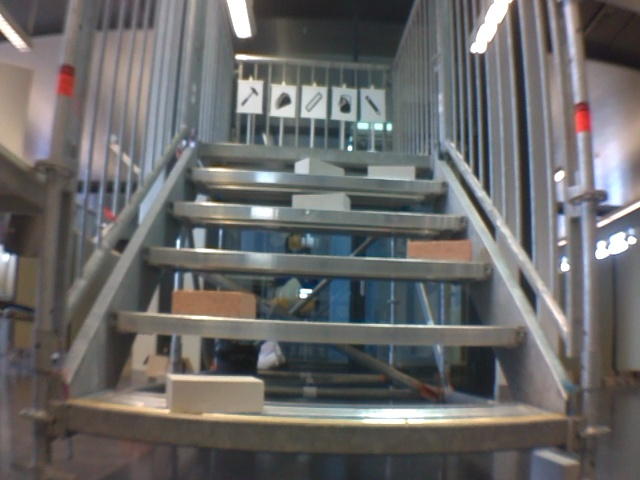brick: (164, 375, 263, 413), (173, 291, 256, 318), (408, 242, 472, 261), (292, 194, 349, 210), (295, 159, 344, 176), (368, 165, 414, 178)
bucket: (334, 94, 354, 113)
edge: (67, 404, 568, 449), (110, 312, 526, 346), (139, 247, 493, 280), (165, 201, 466, 229), (185, 169, 448, 191), (195, 142, 434, 166)
hammer: (238, 85, 260, 109)
pencil: (361, 94, 383, 118)
ruler: (303, 90, 326, 115)
stairs: (37, 4, 602, 478)
steps: (53, 135, 572, 457)
taco: (272, 90, 292, 110)
